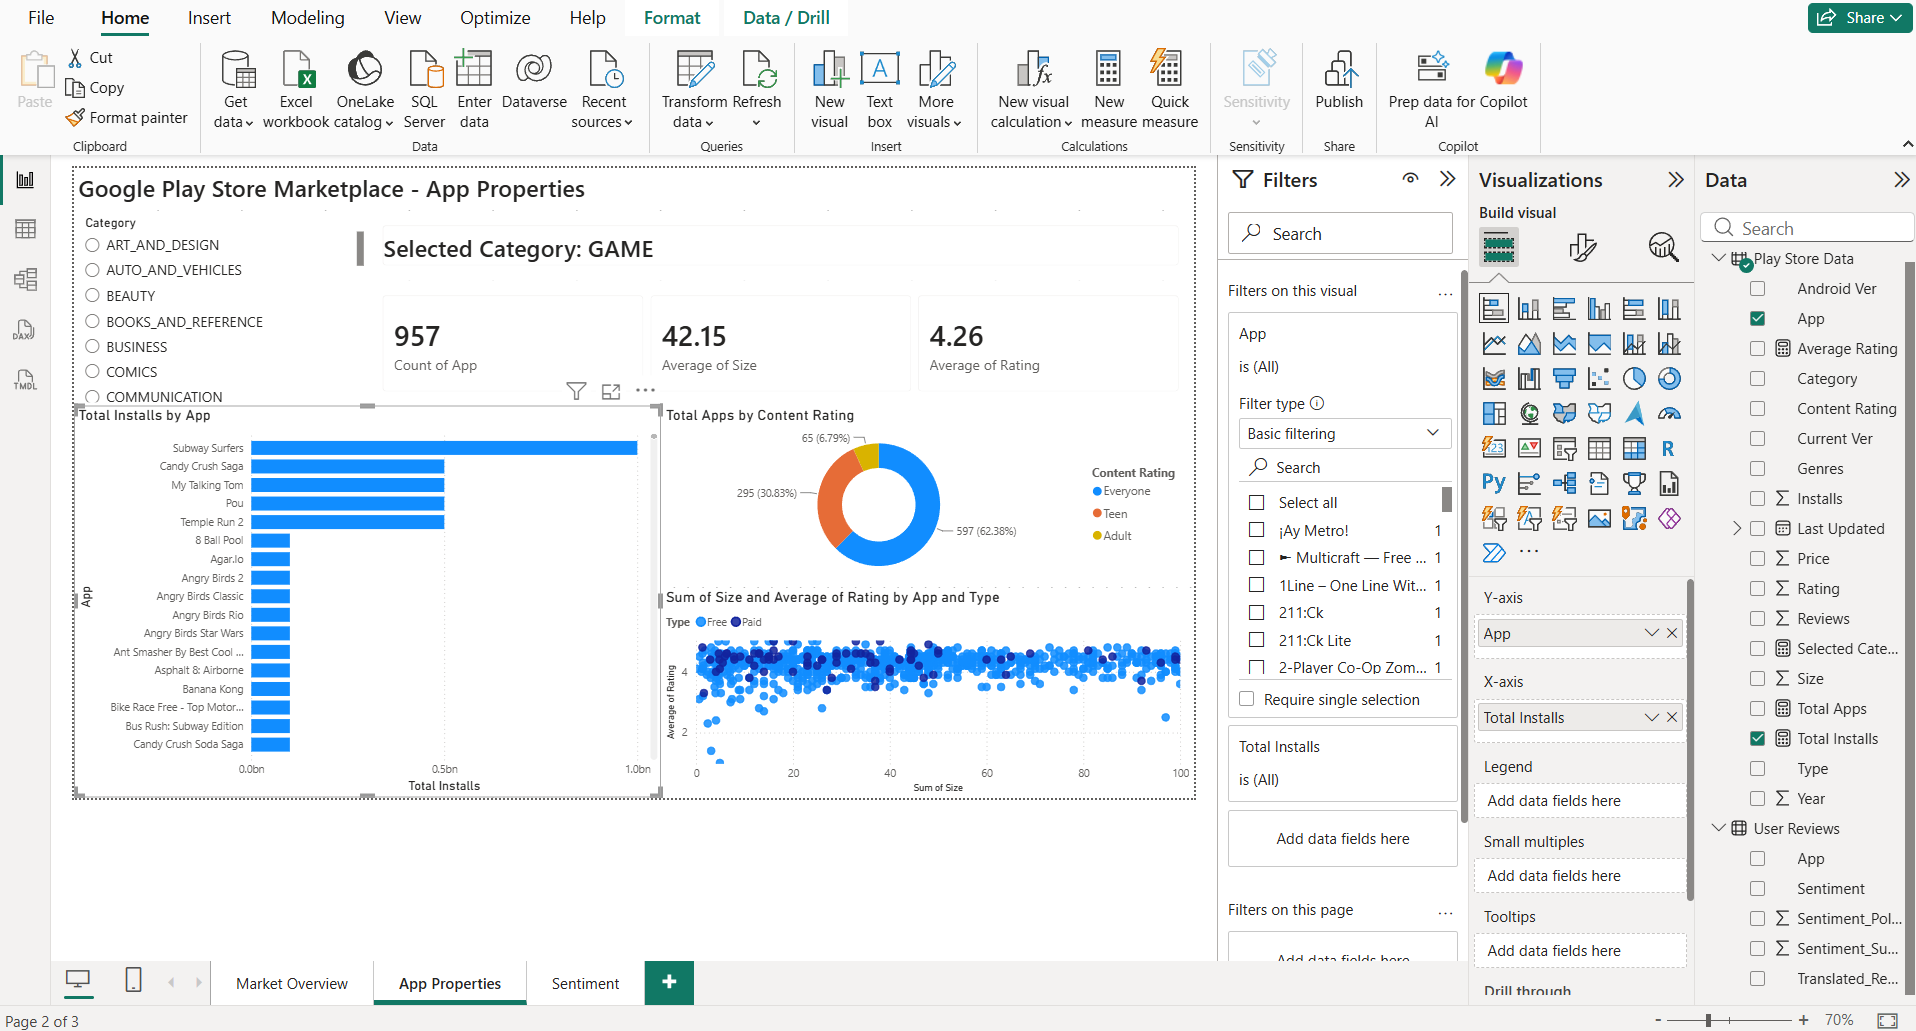

This screenshot's page, from the dashboard's own definition file:
{"tool":"powerbi","page":{"name":"App Properties","canvas":[1280,720],"ordinal":1},"visuals":[{"type":"textbox","box":[0,0,1280,48],"z":0},{"type":"slicer","fields":{"Values":["Play Store Data.Category"]},"box":[0,48,336,224],"z":1000},{"type":"cardVisual","fields":{"Data":["Count(Play Store Data.App)","Avg(Play Store Data.Size)","Avg(Play Store Data.Rating)"]},"box":[336,128,944,144],"z":2000},{"type":"donutChart","fields":{"Category":["Play Store Data.Content Rating"],"Y":["Play Store Data.Total Apps"]},"box":[672,272,608,208],"z":3000},{"type":"barChart","fields":{"Category":["Play Store Data.App"],"Y":["Play Store Data.Total Installs"]},"box":[0,272,672,448],"z":3001},{"type":"scatterChart","fields":{"Category":["Play Store Data.App"],"X":["Sum(Play Store Data.Size)"],"Y":["Avg(Play Store Data.Rating)"],"Series":["Play Store Data.Type"]},"box":[672,480,608,240],"z":3002},{"type":"cardVisual","fields":{"Data":["Play Store Data.Selected Category"]},"box":[336,48,944,80],"z":3003}]}

Visuals, with their boxes on the page's 1280x720 design canvas (x1, y1, x2, y2). These are canvas units, not pixel positions in the 1916x1031 screenshot, which may show the page scaled, cropped or inside an application window:
textbox: [x1=0, y1=0, x2=1280, y2=48]
slicer - Play Store Data.Category: [x1=0, y1=48, x2=336, y2=272]
cardVisual - Count(Play Store Data.App) x Avg(Play Store Data.Size): [x1=336, y1=128, x2=1280, y2=272]
donutChart - Play Store Data.Content Rating x Play Store Data.Total Apps: [x1=672, y1=272, x2=1280, y2=480]
barChart - Play Store Data.App x Play Store Data.Total Installs: [x1=0, y1=272, x2=672, y2=720]
scatterChart - Play Store Data.App x Sum(Play Store Data.Size): [x1=672, y1=480, x2=1280, y2=720]
cardVisual - Play Store Data.Selected Category: [x1=336, y1=48, x2=1280, y2=128]
